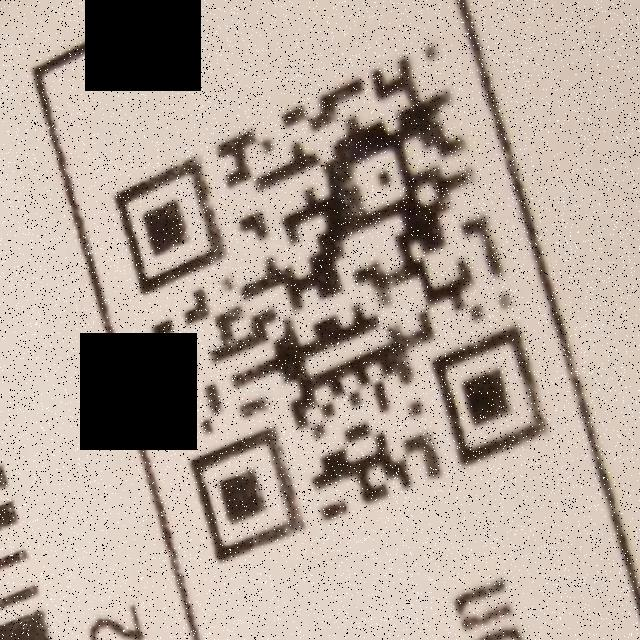QR_CODE: (103, 31, 562, 570)
